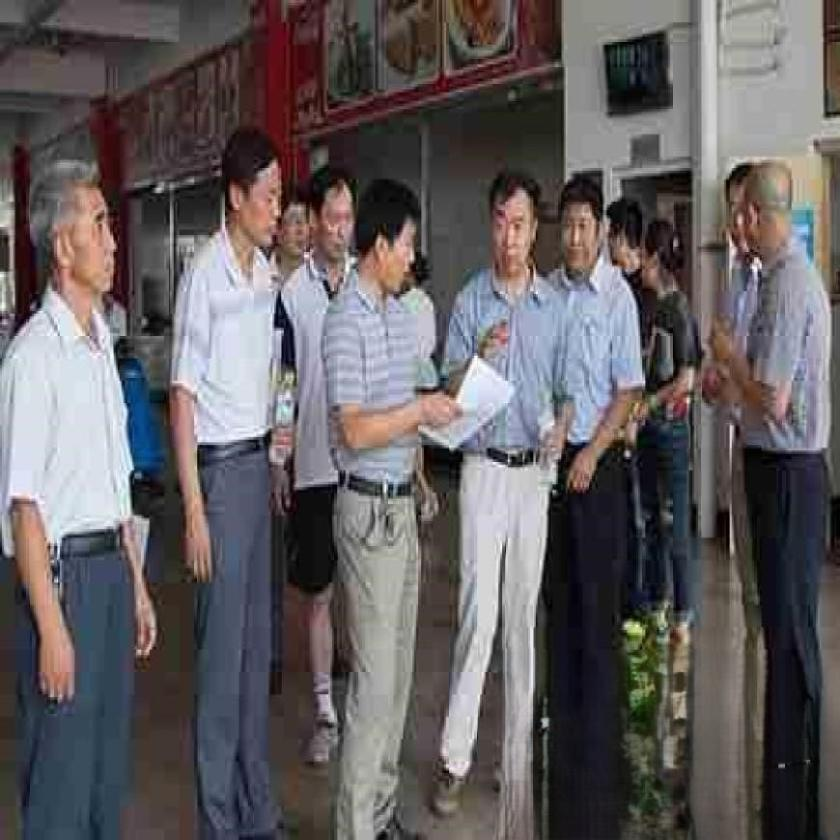Sin_casco: (27, 158, 125, 309), (351, 168, 421, 301), (218, 119, 282, 259), (486, 145, 542, 293), (735, 154, 796, 262), (308, 159, 357, 280), (559, 168, 604, 278)
